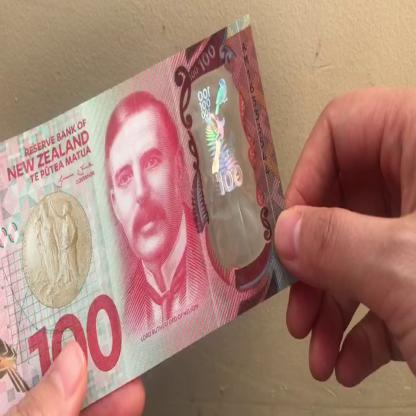100F: (196, 75, 251, 265)
